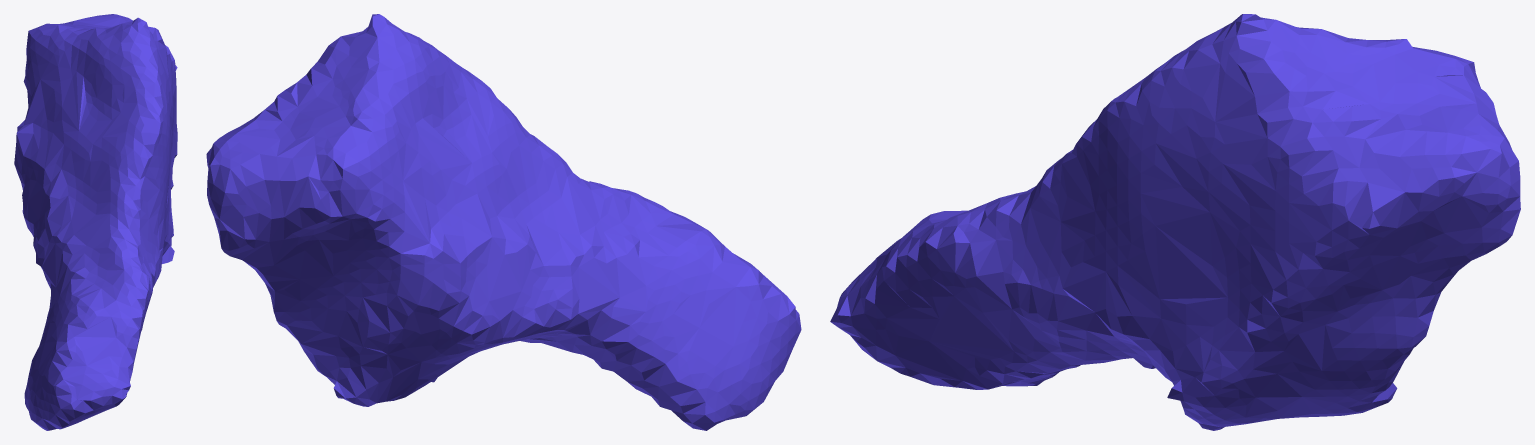
The model's file is Model_84_RH__Auditory_cortex__rostromedial_area_(AuRM).obj.
3 renders of one model, left to right at view 1: azimuth 30°, elevation 25°; view 2: azimuth 150°, elevation 25°; view 3: azimuth 270°, elevation 25°, orthographic. The views are drawn at different scales.
Bounding box in the file's own units: 2.3 × 2.51 × 3.09.
